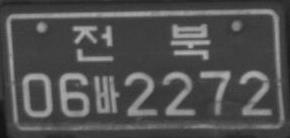0: (21, 72, 53, 118)
2: (161, 69, 197, 116), (238, 69, 273, 117), (124, 71, 158, 117)
6: (58, 71, 90, 118)
7: (199, 69, 232, 116)
바: (93, 74, 120, 113)
전북_D: (72, 22, 212, 61)
